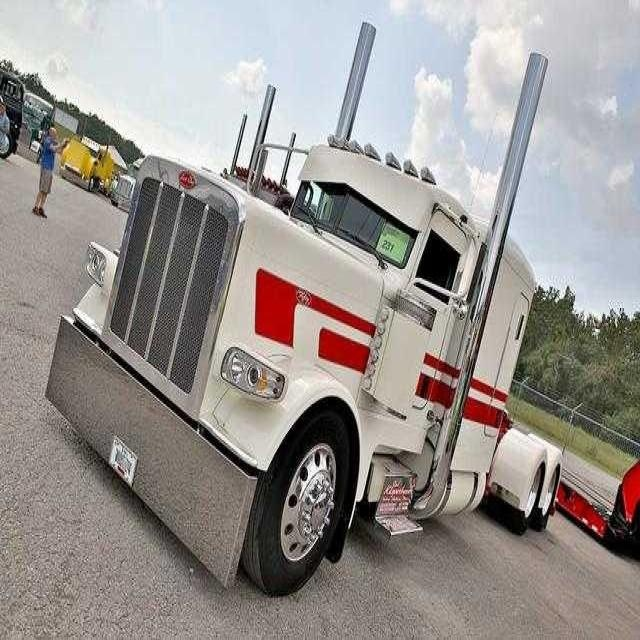Truck: (44, 119, 541, 602)
